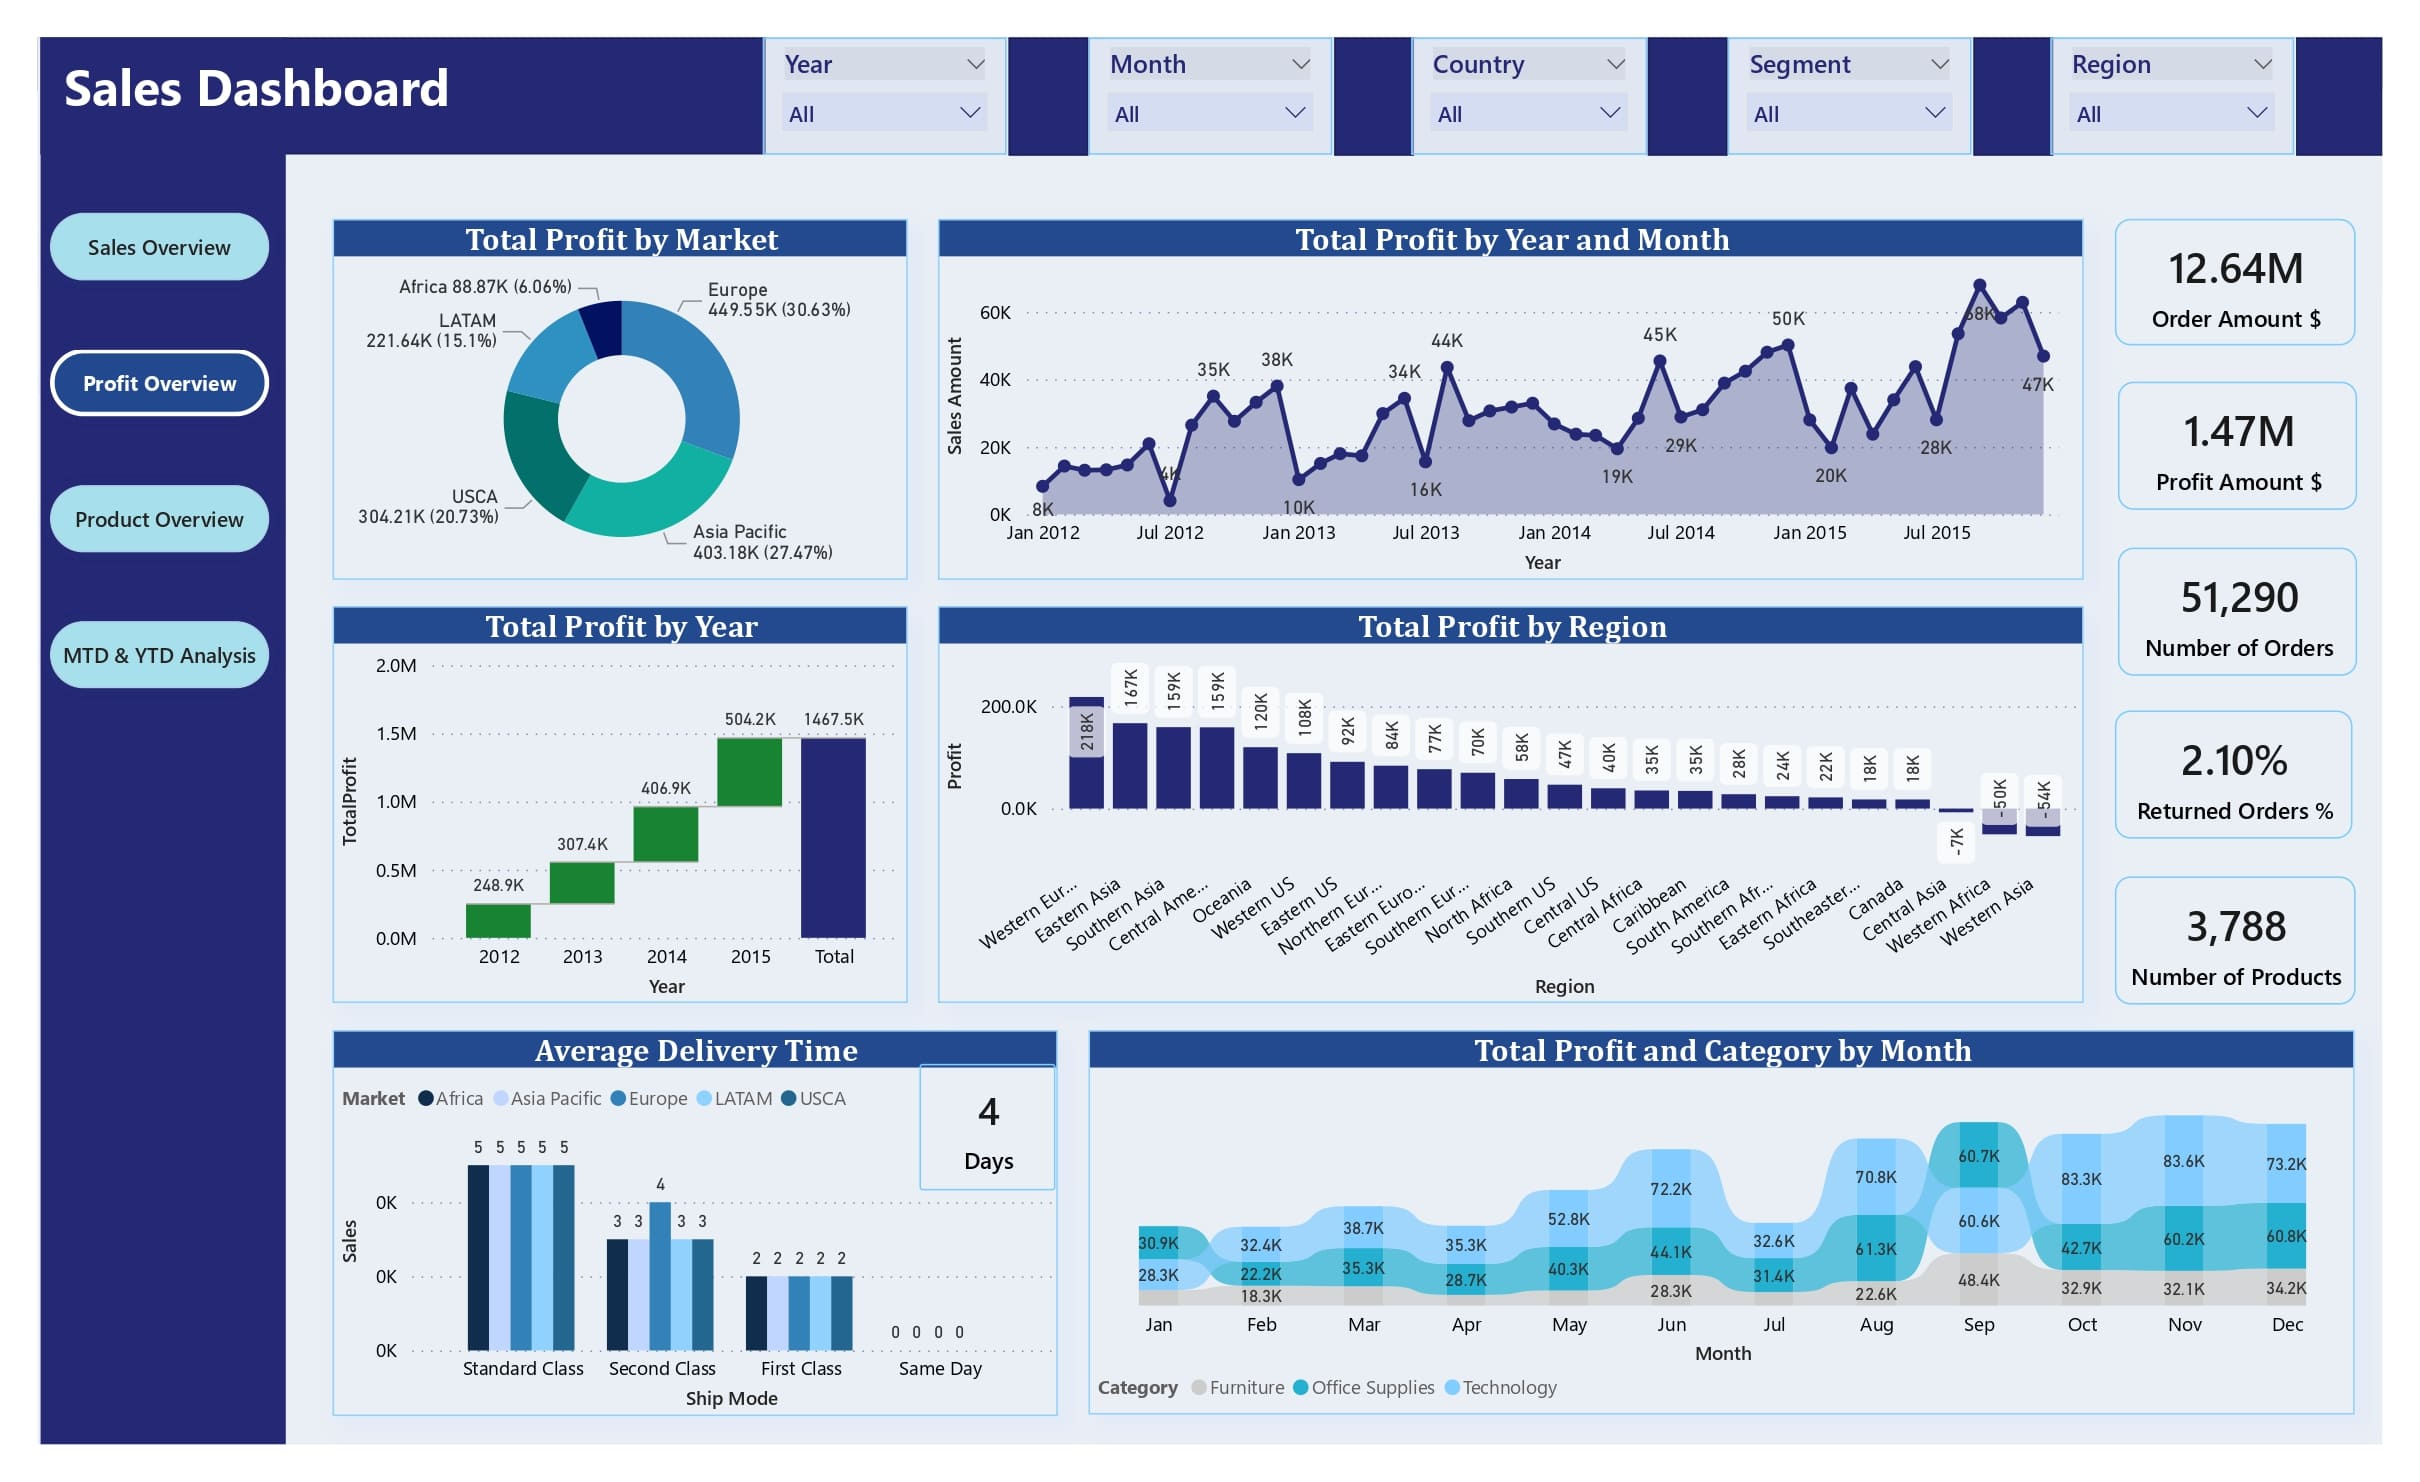

What the dashboard file says about the page in this screenshot:
{"tool":"powerbi","page":{"name":"Profit Overview","canvas":[1500,900],"ordinal":1},"visuals":[{"type":"shape","box":[621.3,0,51.1,75.5],"z":0,"group":"g1"},{"type":"slicer","fields":{"Values":["Orders.Country"]},"box":[878.3,0,151.2,74.7],"z":0,"group":"g2"},{"type":"clusteredColumnChart","title":"Average Delivery Time","fields":{"Category":["Orders.Ship Mode"],"Series":["Orders.Market"],"Y":["Orders.Avg. delivery date"]},"box":[188.8,635.1,464.2,247],"z":0},{"type":"shape","box":[1.1,0,463.9,74.7],"z":1000,"group":"g1"},{"type":"slicer","fields":{"Values":["Calendar.Year"]},"box":[463.9,0,156.4,74.7],"z":1000,"group":"g2"},{"type":"donutChart","title":"Total Profit by Market","fields":{"Y":["Orders.TotalProfit"],"Category":["Orders.Market"]},"box":[188.8,116.4,368.1,231],"z":1000},{"type":"shape","box":[1.1,0,156.9,900],"z":2000,"group":"g1"},{"type":"slicer","fields":{"Values":["Calendar.Date.Variation.Date Hierarchy.Month"]},"box":[671.1,0,156.4,74.7],"z":2000,"group":"g2"},{"type":"lineClusteredColumnComboChart","title":"Total Profit by Region","fields":{"Category":["Orders.Region"],"Y":["Orders.TotalProfit"]},"box":[576.7,363.3,733.3,254.4],"z":2000},{"type":"shape","box":[1444.7,0,55.3,75.5],"z":3000,"group":"g1"},{"type":"textbox","box":[11.2,4.8,453.7,87.2],"z":3000,"group":"g2"},{"type":"card","fields":{"Values":["Orders.Sales_Amount"]},"box":[1329.1,116.4,153.7,81.3],"z":3000},{"type":"shape","box":[1029.8,0,51.1,75.5],"z":4000,"group":"g1"},{"type":"slicer","fields":{"Values":["Orders.Segment"]},"box":[1080.3,0,156.4,74.7],"z":4000,"group":"g2"},{"type":"card","fields":{"Values":["Orders.TotalProfit"]},"box":[1331.7,220.9,153.3,81.7],"z":4000},{"type":"shape","box":[828.8,0,51.1,75.5],"z":5000,"group":"g1"},{"type":"slicer","fields":{"Values":["Orders.Region"]},"box":[1287.5,0,156.4,74.7],"z":5000,"group":"g2"},{"type":"card","fields":{"Values":["Orders.% Returned order"]},"box":[1329.9,430.6,152.2,82.1],"z":5000},{"type":"shape","box":[1237.3,0,51.1,75.5],"z":6000,"group":"g1"},{"type":"card","fields":{"Values":["CountNonNull(Orders.Order ID)"]},"box":[1330,325.7,153.3,81.7],"z":6000},{"type":"card","fields":{"Values":["Count(Orders.Product Name)"]},"box":[1329.9,535.8,153.7,82.1],"z":7000},{"type":"card","fields":{"Values":["Orders.Avg. delivery date"]},"box":[564.2,656.6,86.5,80.6],"z":8000},{"type":"areaChart","title":"Total Profit by Year and Month","fields":{"Y":["Orders.TotalProfit"],"Category":["Calendar.Date.Variation.Date Hierarchy.Year","Calendar.Date.Variation.Date Hierarchy.Month"]},"box":[576.7,115.6,733.3,231.1],"z":9000},{"type":"ribbonChart","title":"Total Profit and Category by Month","fields":{"Category":["Calendar.Month"],"Series":["Orders.Category"],"Y":["Orders.TotalProfit"]},"box":[673.1,635.1,810.4,246.3],"z":10000},{"type":"waterfallChart","title":"Total Profit by Year","fields":{"Category":["Calendar.Year"],"Y":["Orders.TotalProfit"]},"box":[188.8,363.8,368.1,254.3],"z":11000},{"type":"group","id":"g1","title":"Box","box":[1.1,0,1498.9,900],"z":12000},{"type":"pageNavigator","box":[0,103.9,156.9,323.5],"z":13000},{"type":"group","id":"g2","title":"Group 1","box":[11.2,0,1432.7,92],"z":14000}]}

Visuals, with their boxes on the page's 1500x900 design canvas (x1, y1, x2, y2). These are canvas units, not pixel positions in the 2420x1482 screenshot, which may show the page scaled, cropped or inside an application window:
shape: select_region(621, 0, 672, 76)
slicer - Orders.Country: select_region(878, 0, 1030, 75)
"Average Delivery Time" clusteredColumnChart: select_region(189, 635, 653, 882)
shape: select_region(1, 0, 465, 75)
slicer - Calendar.Year: select_region(464, 0, 620, 75)
"Total Profit by Market" donutChart: select_region(189, 116, 557, 347)
shape: select_region(1, 0, 158, 900)
slicer - Calendar.Date.Variation.Date Hierarchy.Month: select_region(671, 0, 828, 75)
"Total Profit by Region" lineClusteredColumnComboChart: select_region(577, 363, 1310, 618)
shape: select_region(1445, 0, 1500, 76)
textbox: select_region(11, 5, 465, 92)
card - Orders.Sales_Amount: select_region(1329, 116, 1483, 198)
shape: select_region(1030, 0, 1081, 76)
slicer - Orders.Segment: select_region(1080, 0, 1237, 75)
card - Orders.TotalProfit: select_region(1332, 221, 1485, 303)
shape: select_region(829, 0, 880, 76)
slicer - Orders.Region: select_region(1288, 0, 1444, 75)
card - Orders.% Returned order: select_region(1330, 431, 1482, 513)
shape: select_region(1237, 0, 1288, 76)
card - CountNonNull(Orders.Order ID): select_region(1330, 326, 1483, 407)
card - Count(Orders.Product Name): select_region(1330, 536, 1484, 618)
card - Orders.Avg. delivery date: select_region(564, 657, 651, 737)
"Total Profit by Year and Month" areaChart: select_region(577, 116, 1310, 347)
"Total Profit and Category by Month" ribbonChart: select_region(673, 635, 1484, 881)
"Total Profit by Year" waterfallChart: select_region(189, 364, 557, 618)
"Box" group: select_region(1, 0, 1500, 900)
pageNavigator: select_region(0, 104, 157, 427)
"Group 1" group: select_region(11, 0, 1444, 92)
